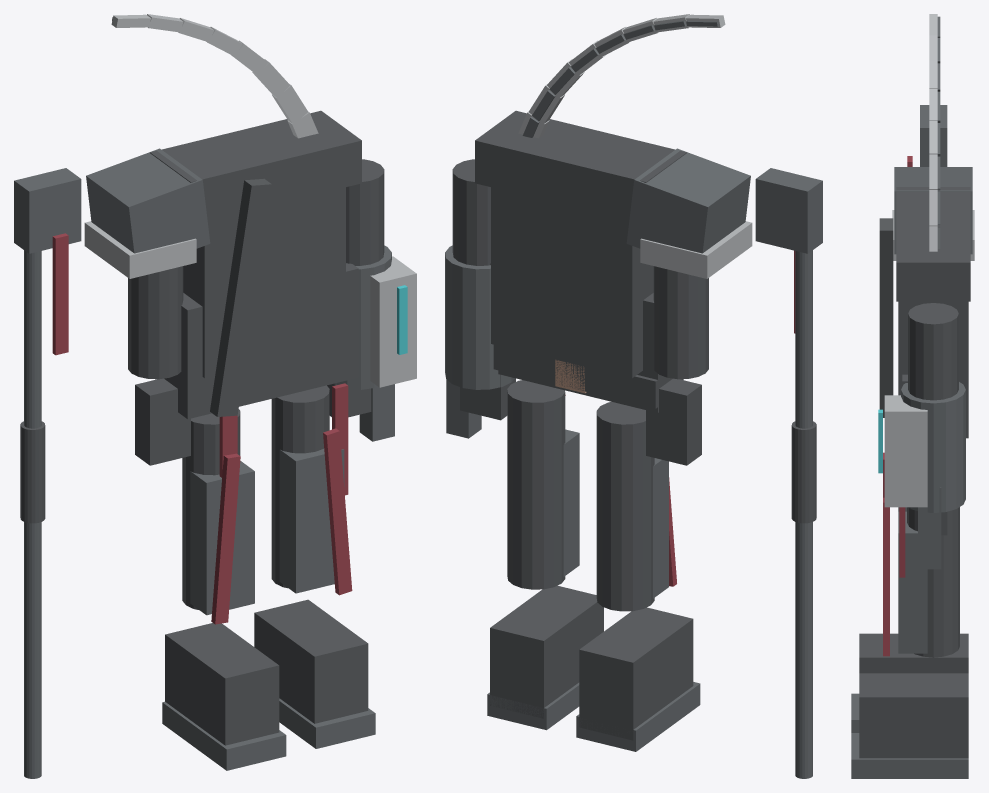
File: ain_outfit_08_Simyeon_v01.glb
3 renders of one model, left to right at view 1: azimuth 30°, elevation 25°; view 2: azimuth 150°, elevation 25°; view 3: azimuth 270°, elevation 25°, orthographic. The views are drawn at different scales.
Parts seen in each view (by area): view 1: torso_shell, shoulder_yoke, boot_L, boot_R, left_shoulder_plate, short_jacket, scythe_shaft_7, shin_plate_R, asym_harness_8, shin_plate_L, sleeve_L, scythe_head_base_7 (+19 smaller); view 2: torso_shell, shoulder_yoke, leg_base_R, boot_L, leg_base_L, boot_R, left_shoulder_plate, scythe_shaft_7, right_gauntlet, sleeve_L, scythe_head_base_7, pouch_L (+12 smaller); view 3: boot_R, shoulder_yoke, right_gauntlet, sleeve_R, right_gauntlet_spine, leg_base_R, shin_plate_R, boot_L, asym_harness_8, boot_sole_R, torso_shell, left_shoulder_plate (+12 smaller).
Part boxes in pixels (x1,y1,x2,y2): torso_shell: (183, 187, 345, 378); shoulder_yoke: (150, 110, 361, 220); boot_L: (165, 623, 279, 745); boot_R: (254, 599, 368, 723); left_shoulder_plate: (86, 148, 210, 253); short_jacket: (166, 263, 358, 419); scythe_shaft_7: (24, 250, 41, 778); shin_plate_R: (279, 448, 344, 593); asym_harness_8: (210, 178, 271, 416); shin_plate_L: (190, 461, 254, 615); sleeve_L: (128, 266, 183, 379); scythe_head_base_7: (14, 168, 81, 253); torso_shell: (491, 187, 653, 378); shoulder_yoke: (475, 110, 686, 220); leg_base_R: (507, 380, 565, 589); boot_L: (579, 607, 693, 740); leg_base_L: (596, 401, 654, 611); boot_R: (490, 585, 603, 718); left_shoulder_plate: (626, 148, 750, 253); scythe_shaft_7: (795, 250, 812, 778); right_gauntlet: (445, 245, 514, 389); sleeve_L: (653, 266, 708, 379); scythe_head_base_7: (755, 168, 822, 253); pouch_L: (646, 378, 701, 465); boot_R: (859, 673, 968, 758); shoulder_yoke: (896, 187, 970, 301); right_gauntlet: (901, 382, 965, 512); sleeve_R: (908, 303, 958, 400); right_gauntlet_spine: (884, 395, 927, 507); leg_base_R: (907, 507, 959, 657); shin_plate_R: (898, 511, 927, 653); boot_L: (859, 633, 968, 673); asym_harness_8: (879, 218, 893, 417); boot_sole_R: (851, 733, 968, 778); torso_shell: (898, 301, 968, 438); left_shoulder_plate: (894, 167, 972, 254).
Bounding box in the file's own units: 0.99 × 1.89 × 0.315.
